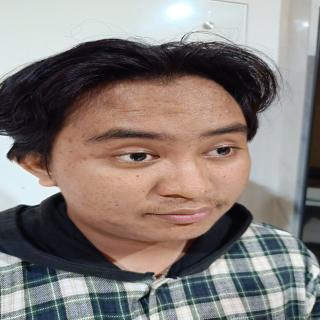Takut: (47, 71, 276, 247)
